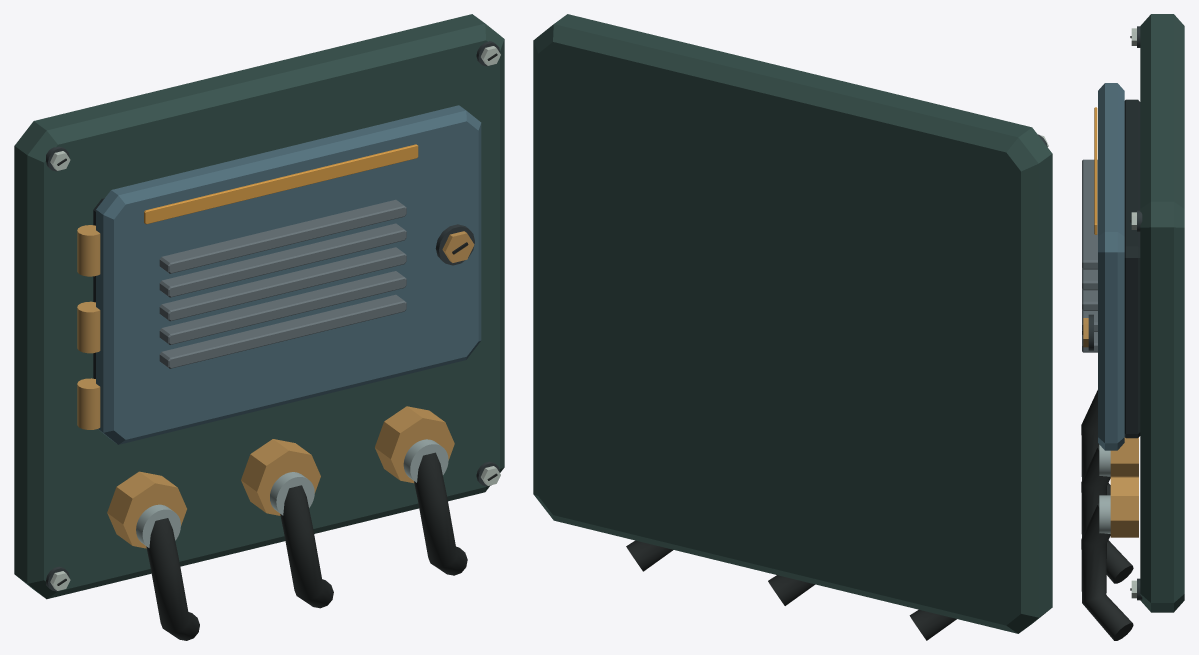
File: thruster-working.glb
3 views of the same model, side by side, from view 1: azimuth 30°, elevation 25°; view 2: azimuth 150°, elevation 25°; view 3: azimuth 270°, elevation 25° (orthographic). The views are drawn at different scales.
Parts seen in each view (by area): view 1: RB_thruster_working; view 2: RB_thruster_working; view 3: RB_thruster_working.
Part boxes in pixels (<box>): RB_thruster_working: <box>14,14,504,640</box>; RB_thruster_working: <box>533,14,1052,640</box>; RB_thruster_working: <box>1081,14,1184,640</box>.
Size of the model in its own units: 0.82 by 0.8637 by 0.1752.
